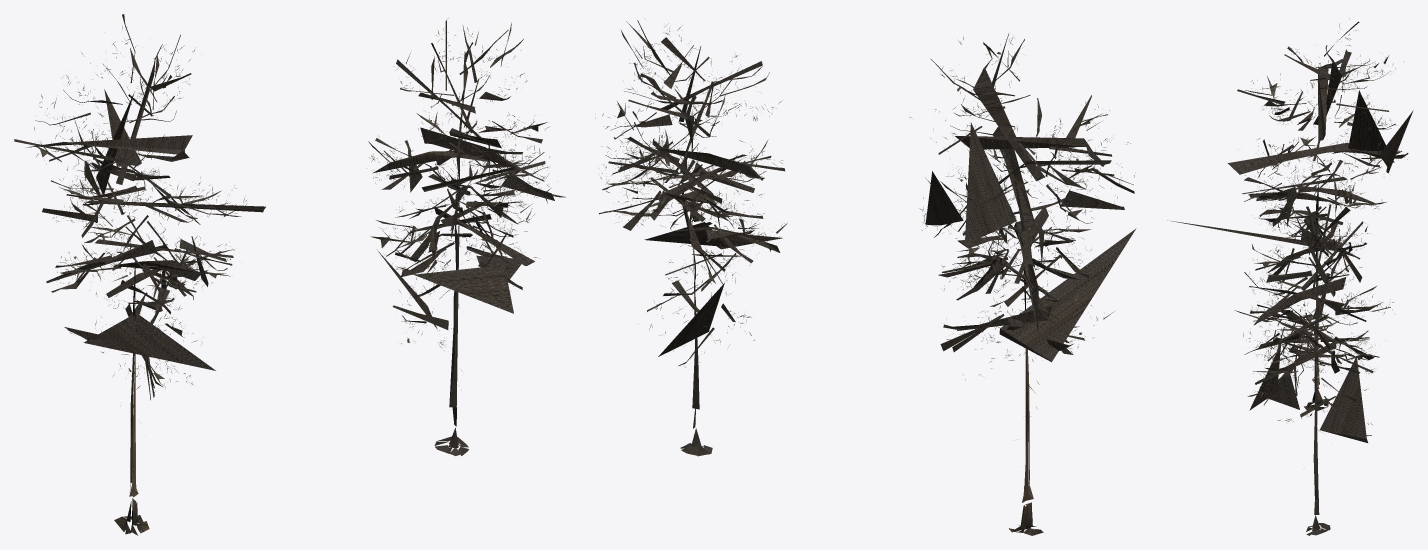
Rendered from pine_tree_01.glb.
The picture shows the model from 3 angles, left to right: view 1: azimuth 30°, elevation 25°; view 2: azimuth 150°, elevation 25°; view 3: azimuth 270°, elevation 25°; orthographic projection. The views are drawn at different scales.
Parts seen in each view (by area): view 1: pine_tree_01_a_LOD0, pine_tree_01_c_LOD0; view 2: pine_tree_01_a_LOD0, pine_tree_01_c_LOD0; view 3: pine_tree_01_c_LOD0, pine_tree_01_a_LOD0.
Part boxes in pixels (left/top/right/bottom): pine_tree_01_a_LOD0: left=14, top=14, right=265, bottom=535; pine_tree_01_c_LOD0: left=368, top=18, right=565, bottom=455; pine_tree_01_a_LOD0: left=909, top=33, right=1136, bottom=535; pine_tree_01_c_LOD0: left=595, top=19, right=787, bottom=456; pine_tree_01_c_LOD0: left=1234, top=204, right=1395, bottom=535; pine_tree_01_a_LOD0: left=1167, top=18, right=1413, bottom=410.
Size of the model in its own units: 22.51 by 20.54 by 11.72.
5 materials, 5 textured.
